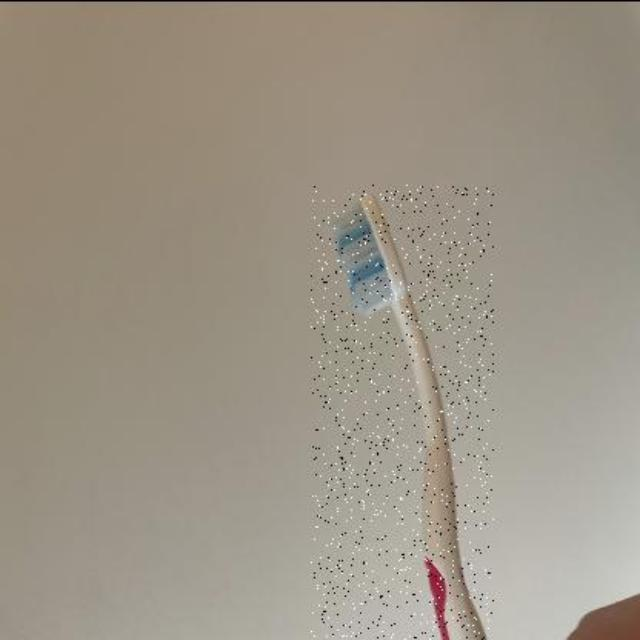toothbrush: (311, 184, 494, 640)
